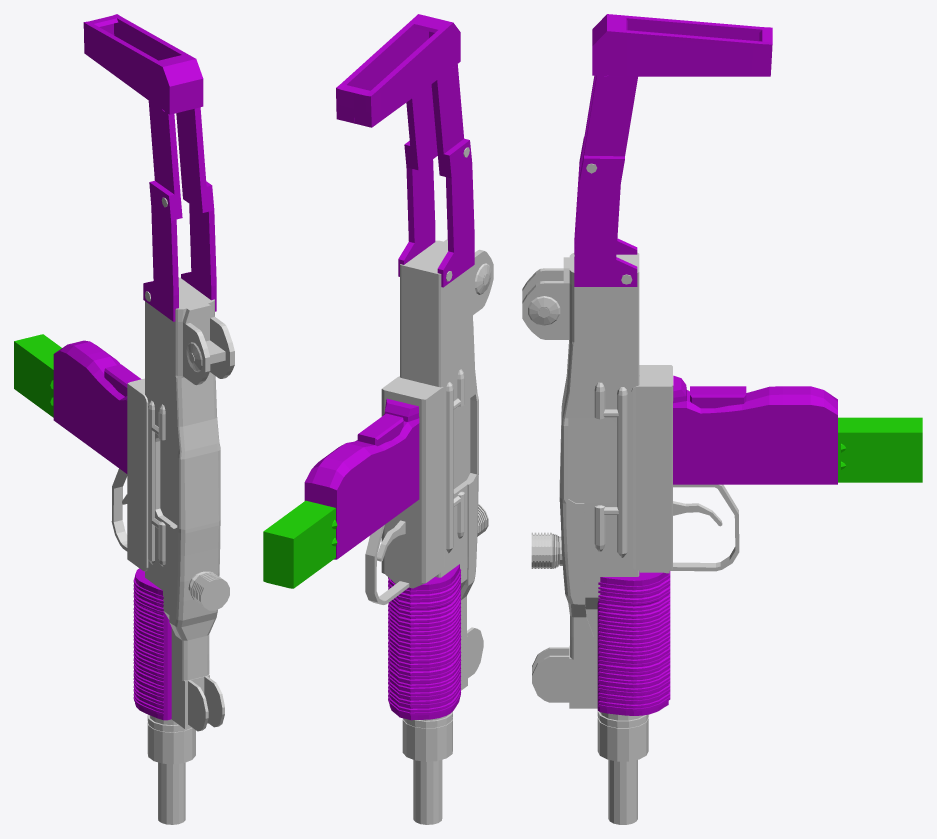
File: UZI.fbx
The picture shows the model from 3 angles, left to right: view 1: azimuth 30°, elevation 25°; view 2: azimuth 150°, elevation 25°; view 3: azimuth 270°, elevation 25°; orthographic projection. The views are drawn at different scales.
Parts seen in each view (by area): view 1: Uzi itself; view 2: Uzi itself; view 3: Uzi itself.
Boxes of the visible parts, x1,y1,x2,y2 form: Uzi itself: (14, 14, 234, 824); Uzi itself: (263, 14, 493, 824); Uzi itself: (522, 14, 922, 824).
Bounding box in the file's own units: 2.92 × 36.96 × 16.84.
